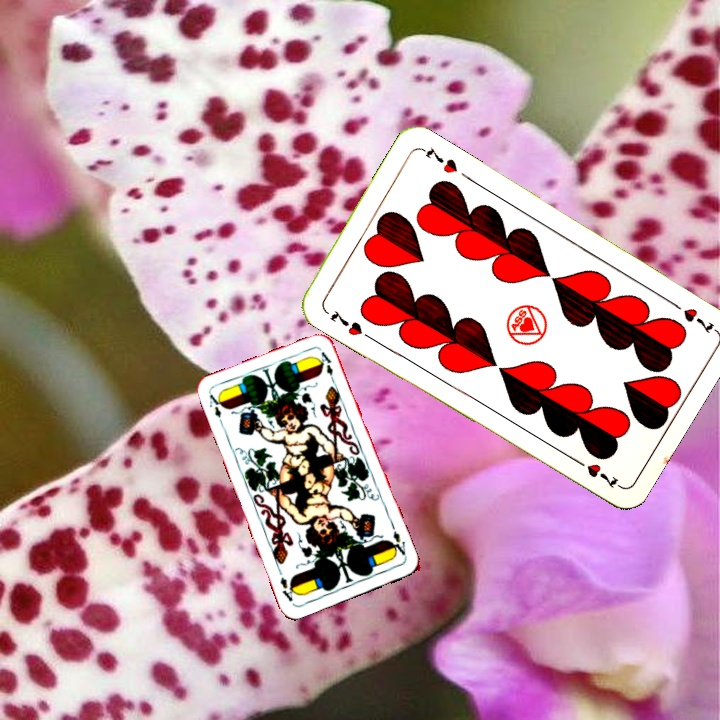EA: (205, 390, 227, 429), (387, 527, 409, 560)
H7: (665, 296, 718, 337), (326, 305, 365, 339)
